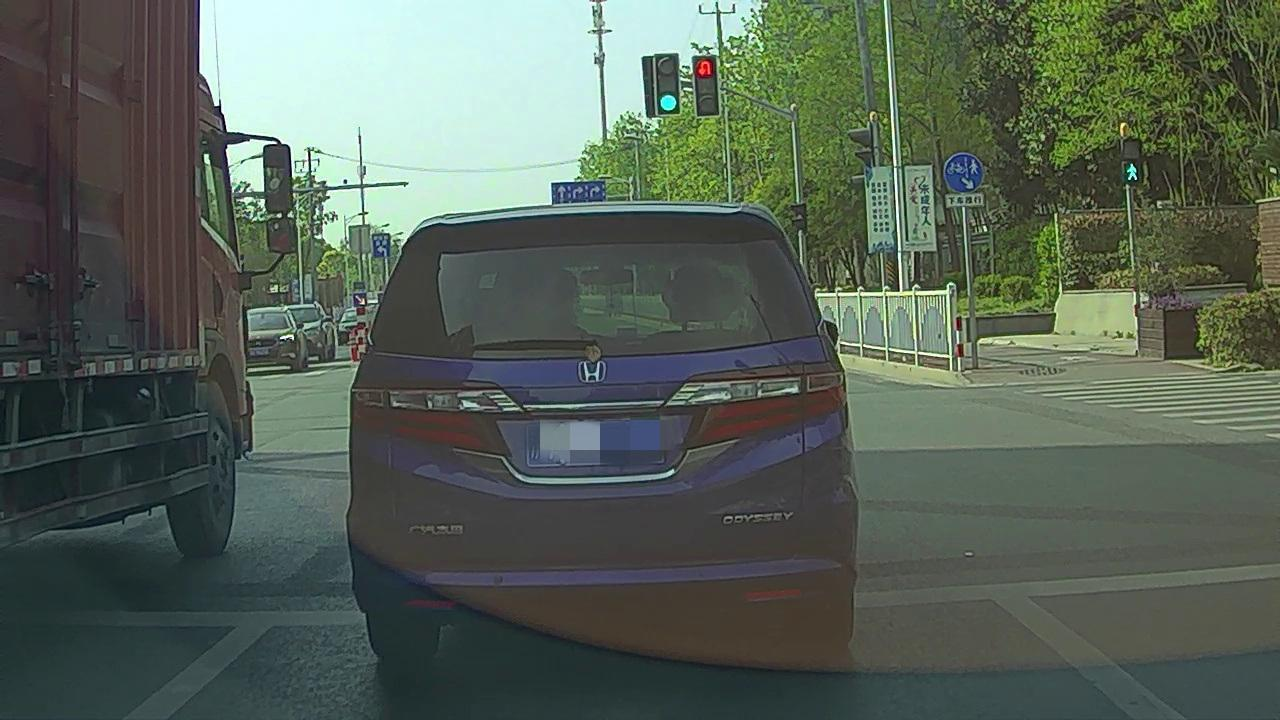traffic_light: (655, 52, 681, 115), (694, 56, 718, 115)
